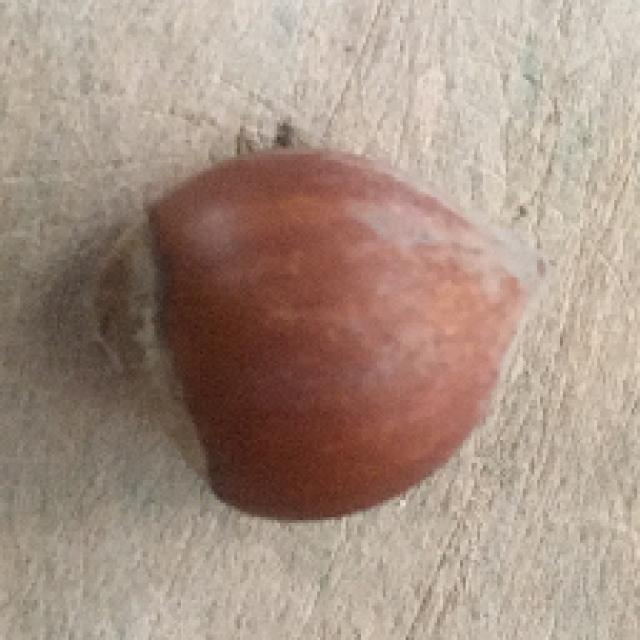qualityHazelnut: (80, 149, 550, 521)
